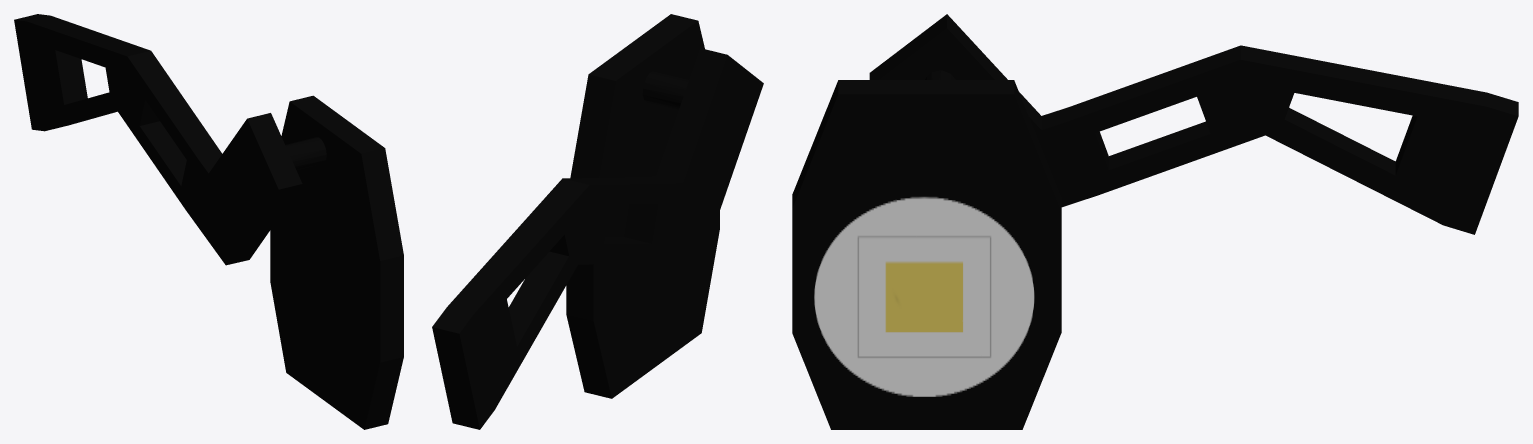
Rendered from mola_auv_lightR.obj.
The picture shows the model from 3 angles, left to right: view 1: azimuth 30°, elevation 25°; view 2: azimuth 150°, elevation 25°; view 3: azimuth 270°, elevation 25°; orthographic projection. The views are drawn at different scales.
Visible parts, largest first — view 1: LightL; view 2: LightL; view 3: LightL.
Part boxes in pixels (x1,y1,x2,y2): LightL: [14, 14, 403, 429]; LightL: [432, 14, 763, 429]; LightL: [792, 14, 1518, 429].
Size of the model in its own units: 0.0394 by 0.118 by 0.2157.
Materials: 1 (1 with a texture image).
